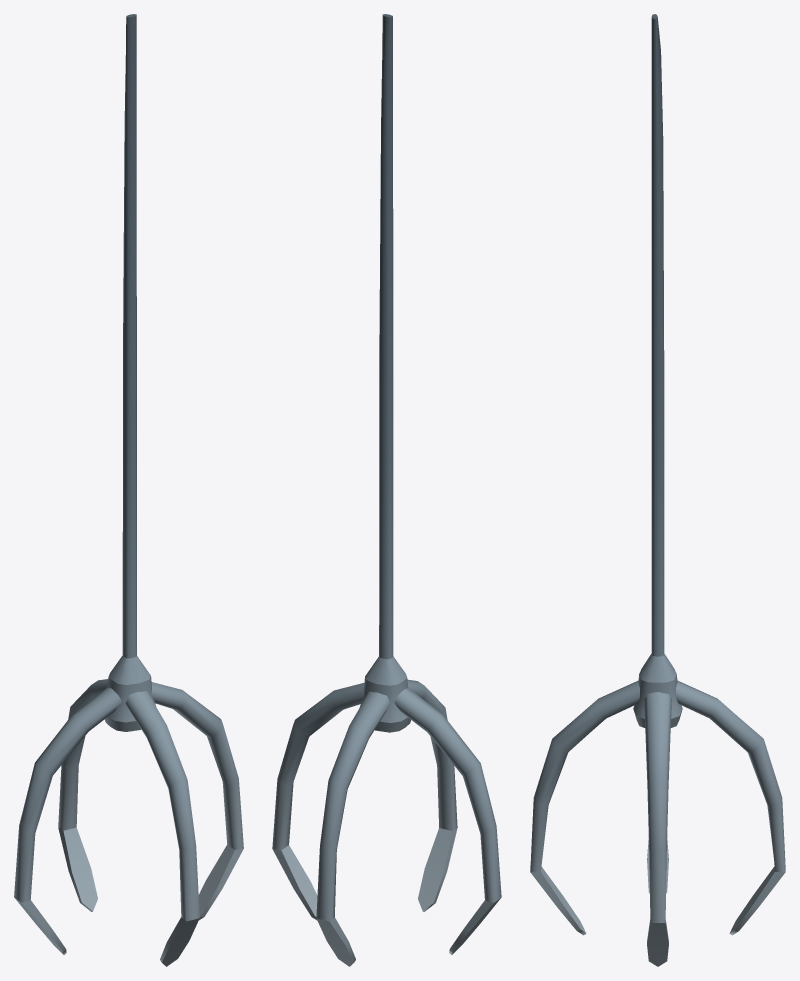
Rendered from SM_PlinkoClaw_Model_01.fbx.
3 views of the same model, side by side, from view 1: azimuth 30°, elevation 25°; view 2: azimuth 150°, elevation 25°; view 3: azimuth 270°, elevation 25° (orthographic).
Visible parts, largest first — view 1: SM_PlinkoClaw_Mesh_01; view 2: SM_PlinkoClaw_Mesh_01; view 3: SM_PlinkoClaw_Mesh_01.
Boxes of the visible parts, <box> form: SM_PlinkoClaw_Mesh_01: <box>14,14,243,966</box>; SM_PlinkoClaw_Mesh_01: <box>272,14,501,966</box>; SM_PlinkoClaw_Mesh_01: <box>530,14,785,966</box>.
Size of the model in its own units: 0.2844 by 1.13 by 0.2844.
